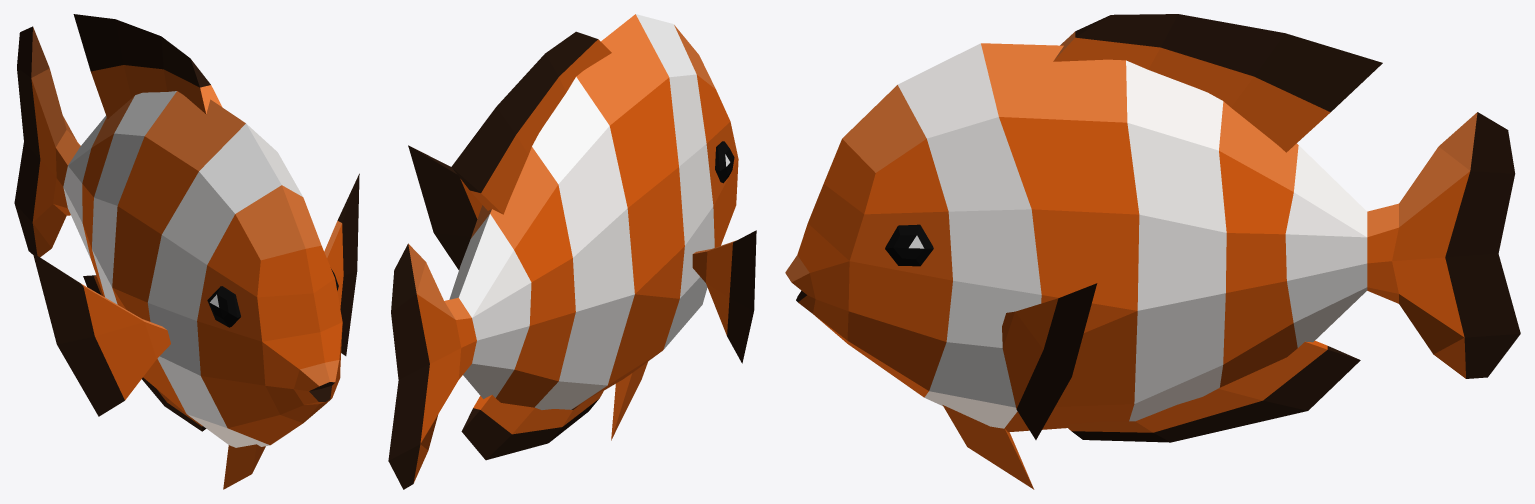
The model's file is fishClown.obj.
3 renders of one model, left to right at view 1: azimuth 30°, elevation 25°; view 2: azimuth 150°, elevation 25°; view 3: azimuth 270°, elevation 25°, orthographic. The views are drawn at different scales.
Visible parts, largest first — view 1: fishClown; view 2: fishClown; view 3: fishClown.
Boxes of the visible parts, x1=… form: fishClown: x1=14, y1=14, x2=359, y2=489; fishClown: x1=388, y1=14, x2=756, y2=489; fishClown: x1=785, y1=14, x2=1520, y2=489.
Bounding box in the file's own units: 9.84 × 11.75 × 16.46.
